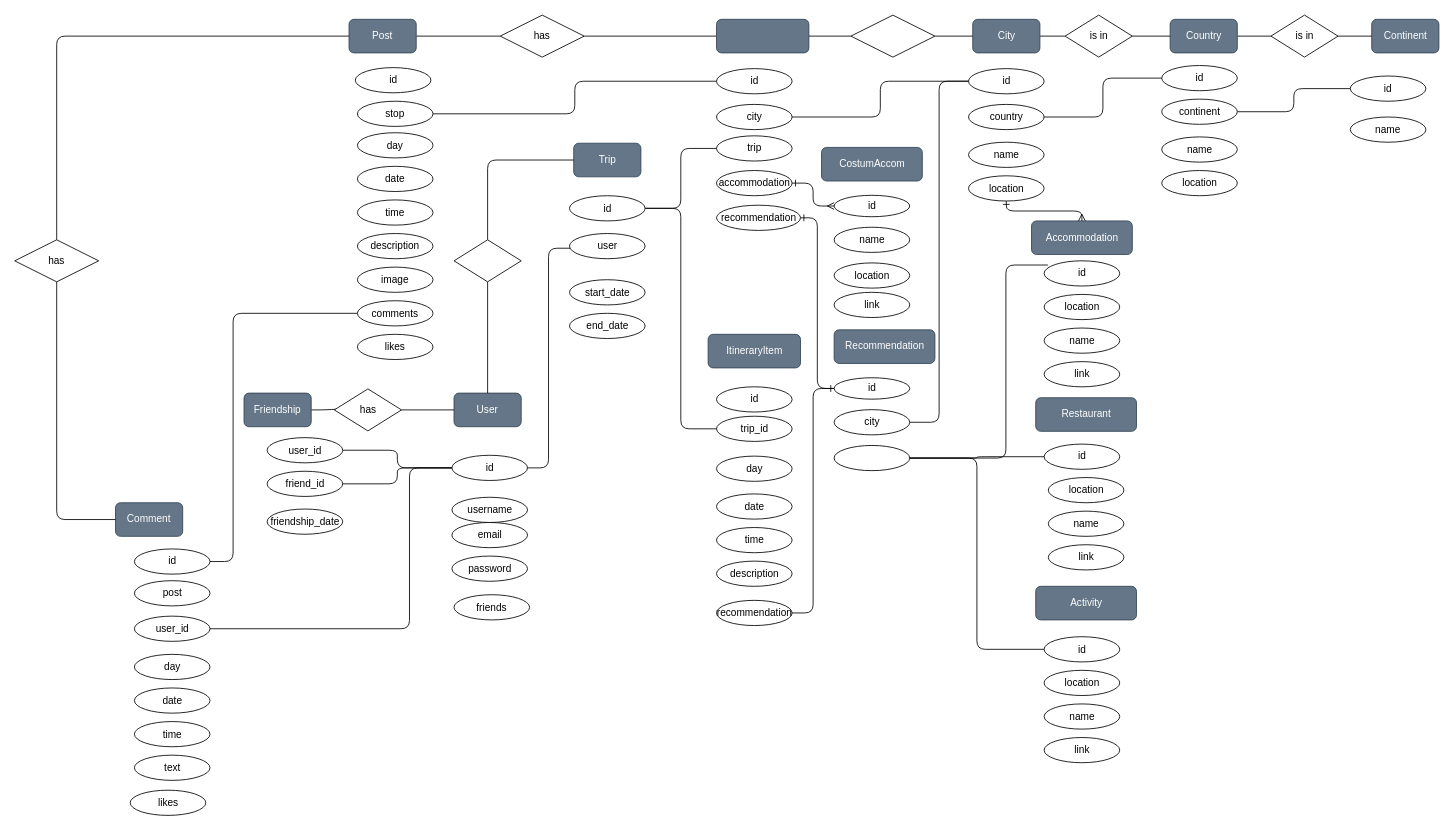
Some shapes in this 1454 by 830 pixel diagram are drawn without their labels. Here are the shapes that lost their labels. From the top down, the centre of each, then its label:
the point at 762,35: Stops
the point at 892,35: has location
the point at 487,260: makes
the point at 871,458: type
